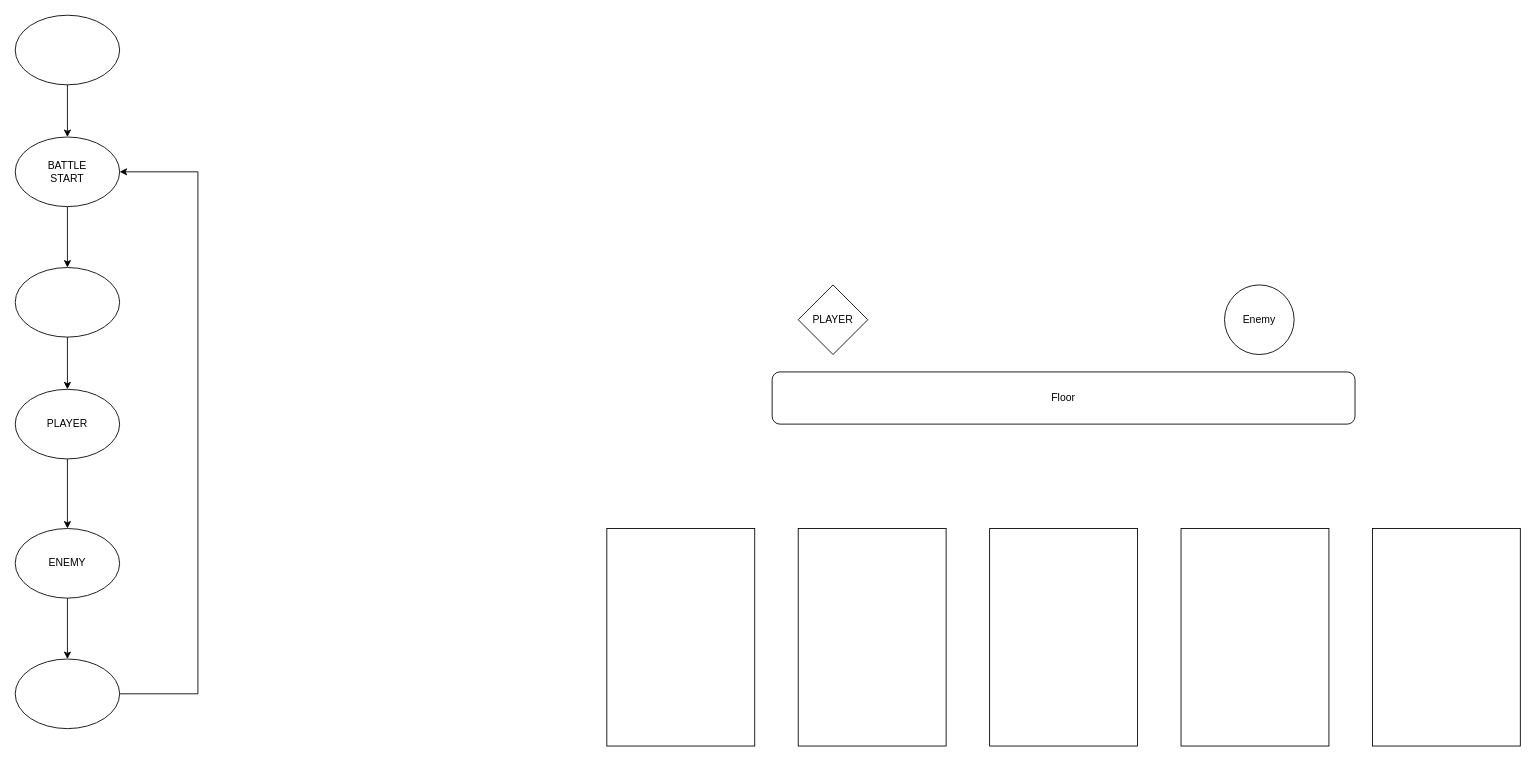
This 1536x761 diagram has some shape labels left out. The shapes that lost their labels are listed below. From the top down, each one's centre as x and y in pixels, then its label:
At pixel 67 49: "START".
At pixel 67 302: "ENVIRONMENT".
At pixel 67 693: "POST ROUND".
